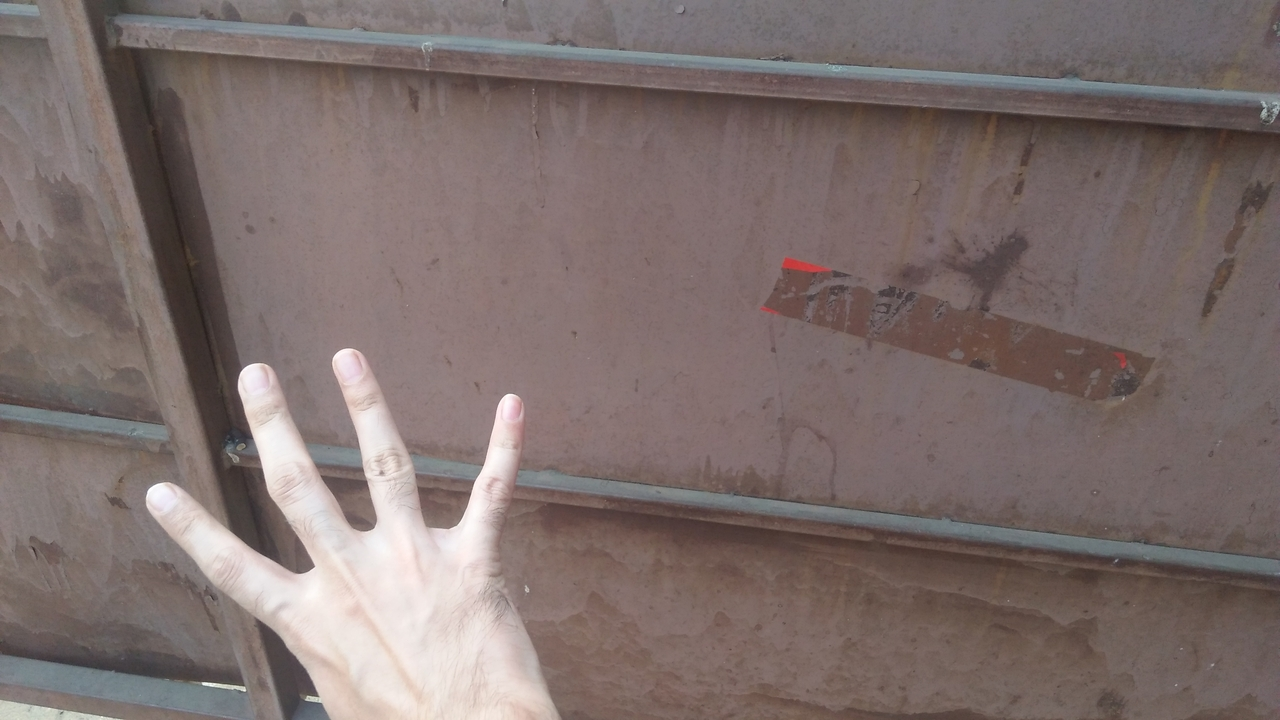fingertip: (224, 358, 286, 420), (318, 340, 380, 396), (135, 476, 188, 526), (482, 386, 532, 430)
